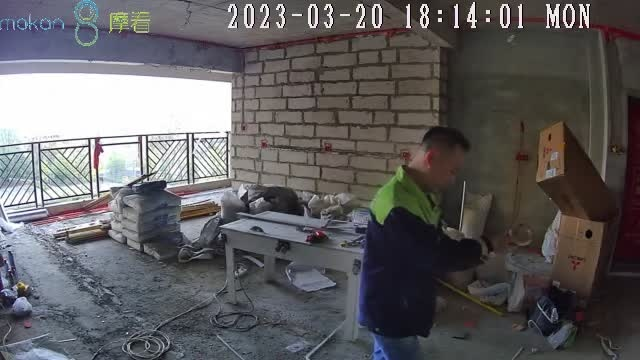people: (358, 127, 487, 360)
window: (1, 57, 232, 208)
